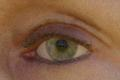eye: (46, 35, 78, 61)
